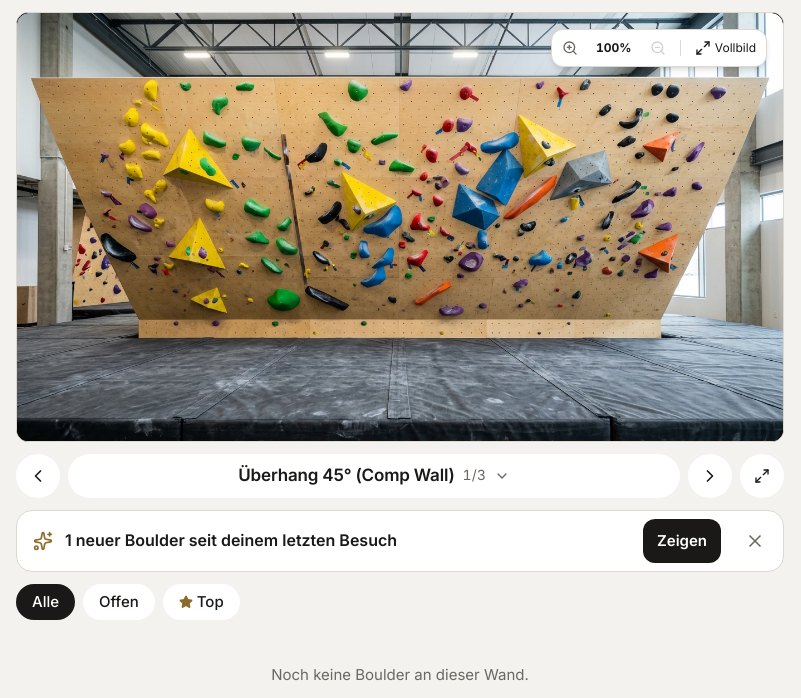
AC-1 bis AC-3 «Neu seit deinem letzten Besuch» › ✕ schließt den Streifen auch nach dem Neuladen
Click the button with test id "wall-news-dismiss": [755, 540] box [733,518,777,562]
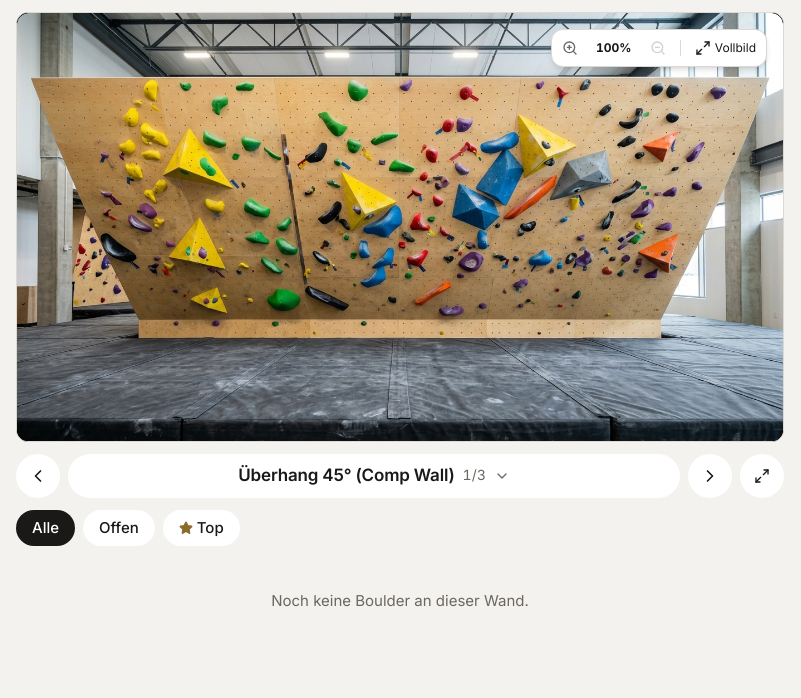
Expected: the message with test id "wall-news-banner" is gone
